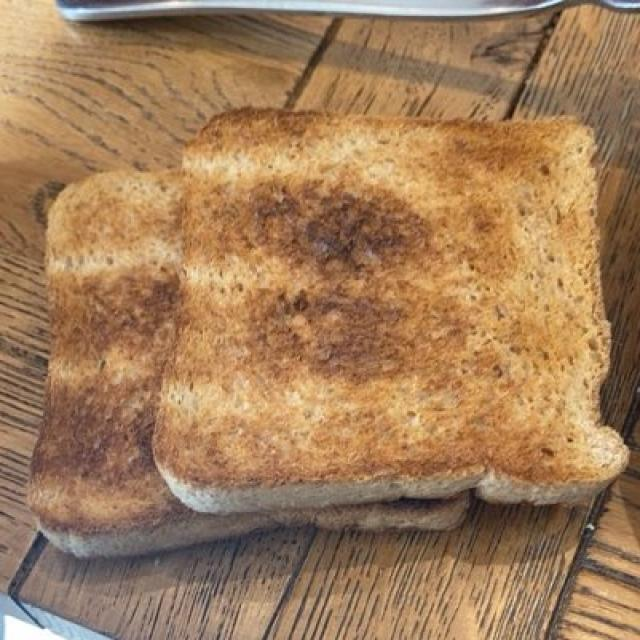bread-wholemeal-toast: (57, 114, 617, 535)
